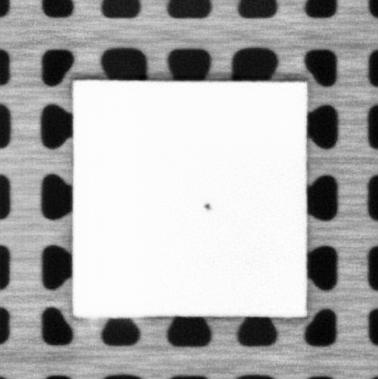DIE_INK: (203, 202, 212, 210)
